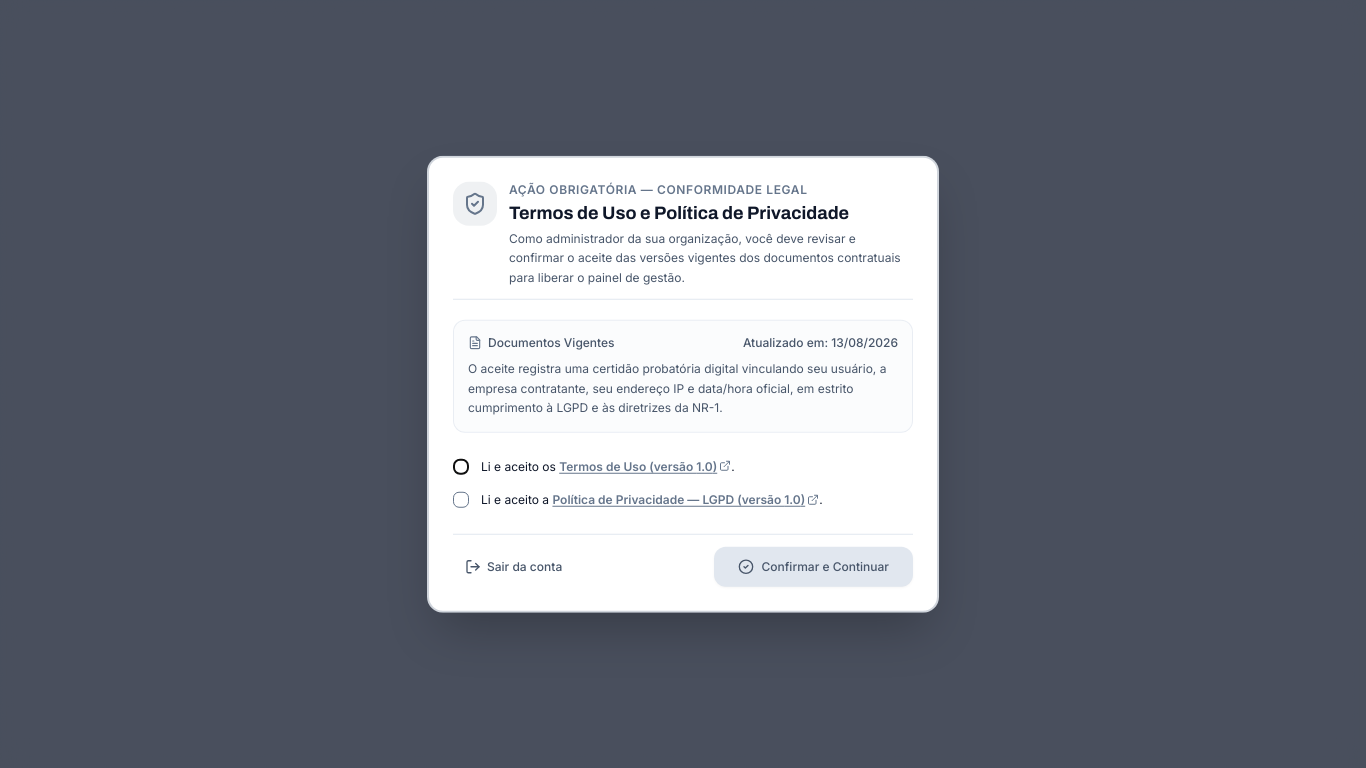
Scenario: TermsReacceptanceModal — Guard de Re-aceite de Termos e LGPD › habilita o botão apenas quando ambos os checkboxes forem marcados e chama RPC accept_company_terms no clique
This screenshot has width=1366, height=768.
Later steps or results of the test are not shown.
Expected: the button with test id "reaccept-submit-btn" is disabled, [714,546,913,586]
Note: Marca apenas Termos
Click the checkbox with test id "reaccept-terms-checkbox": (461, 466) [453,458,469,474]
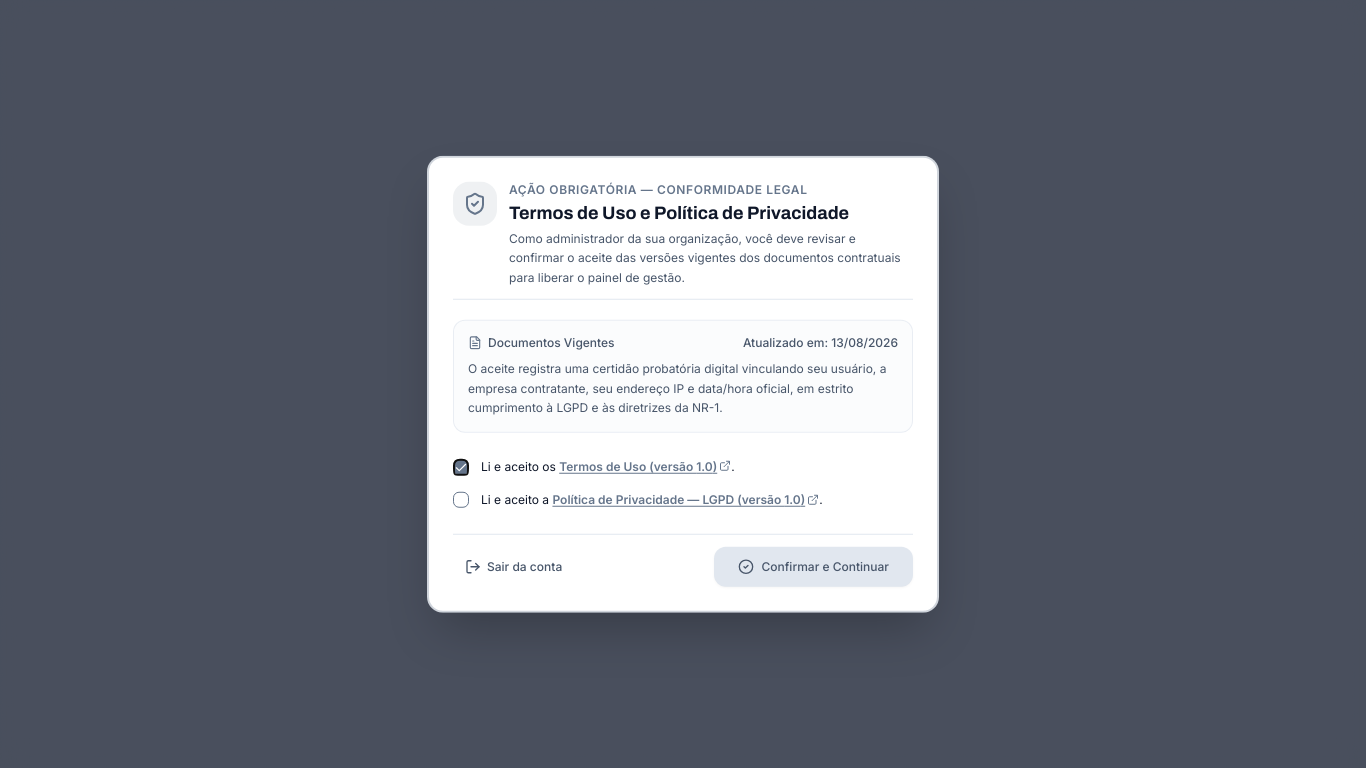
Expected: the button with test id "reaccept-submit-btn" is disabled, [714,546,913,586]
Note: Marca também Privacidade
Click the checkbox with test id "reaccept-privacy-checkbox": (461, 500) [453,492,469,508]
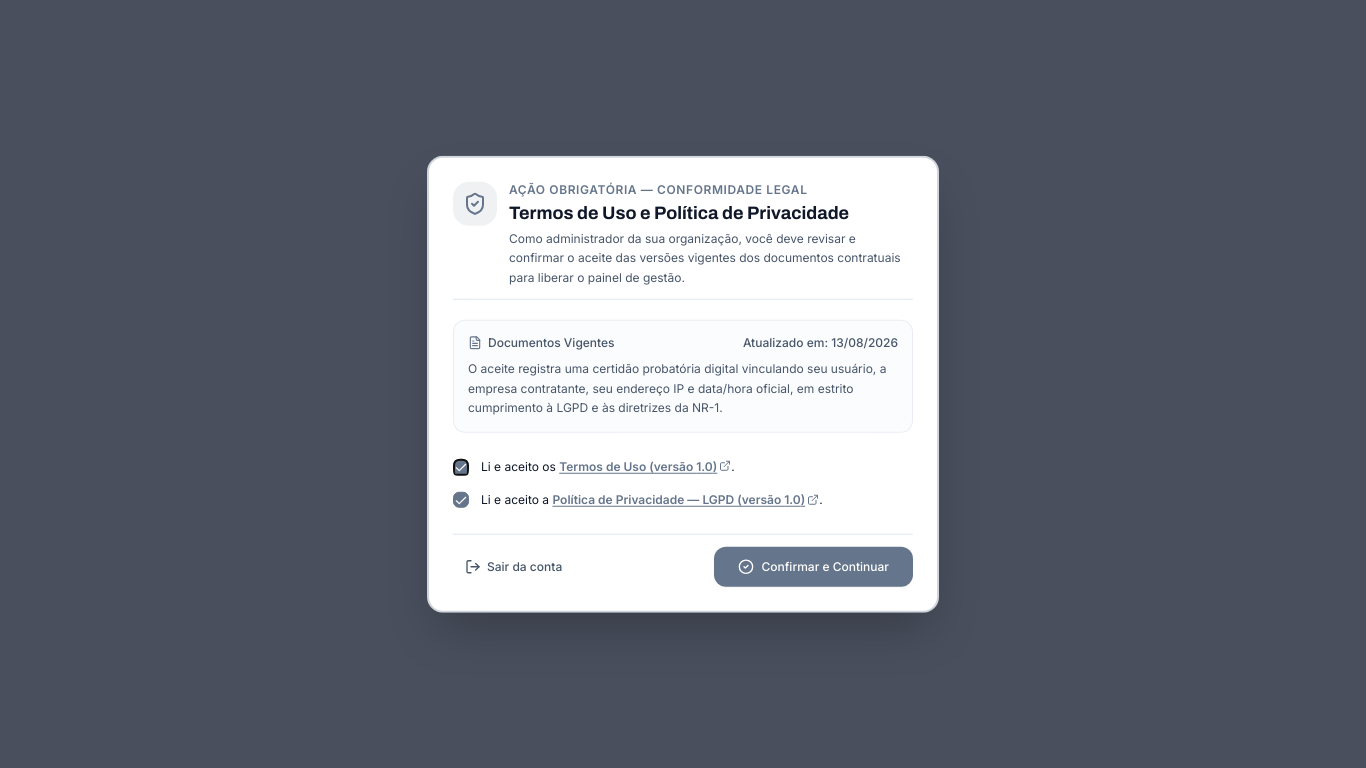
Expected: the button with test id "reaccept-submit-btn" is enabled, [714,546,913,586]
